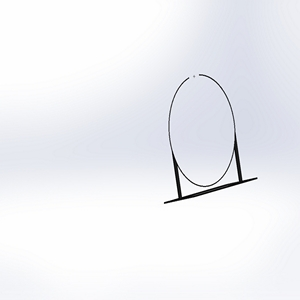circle: (164, 72, 258, 206)
